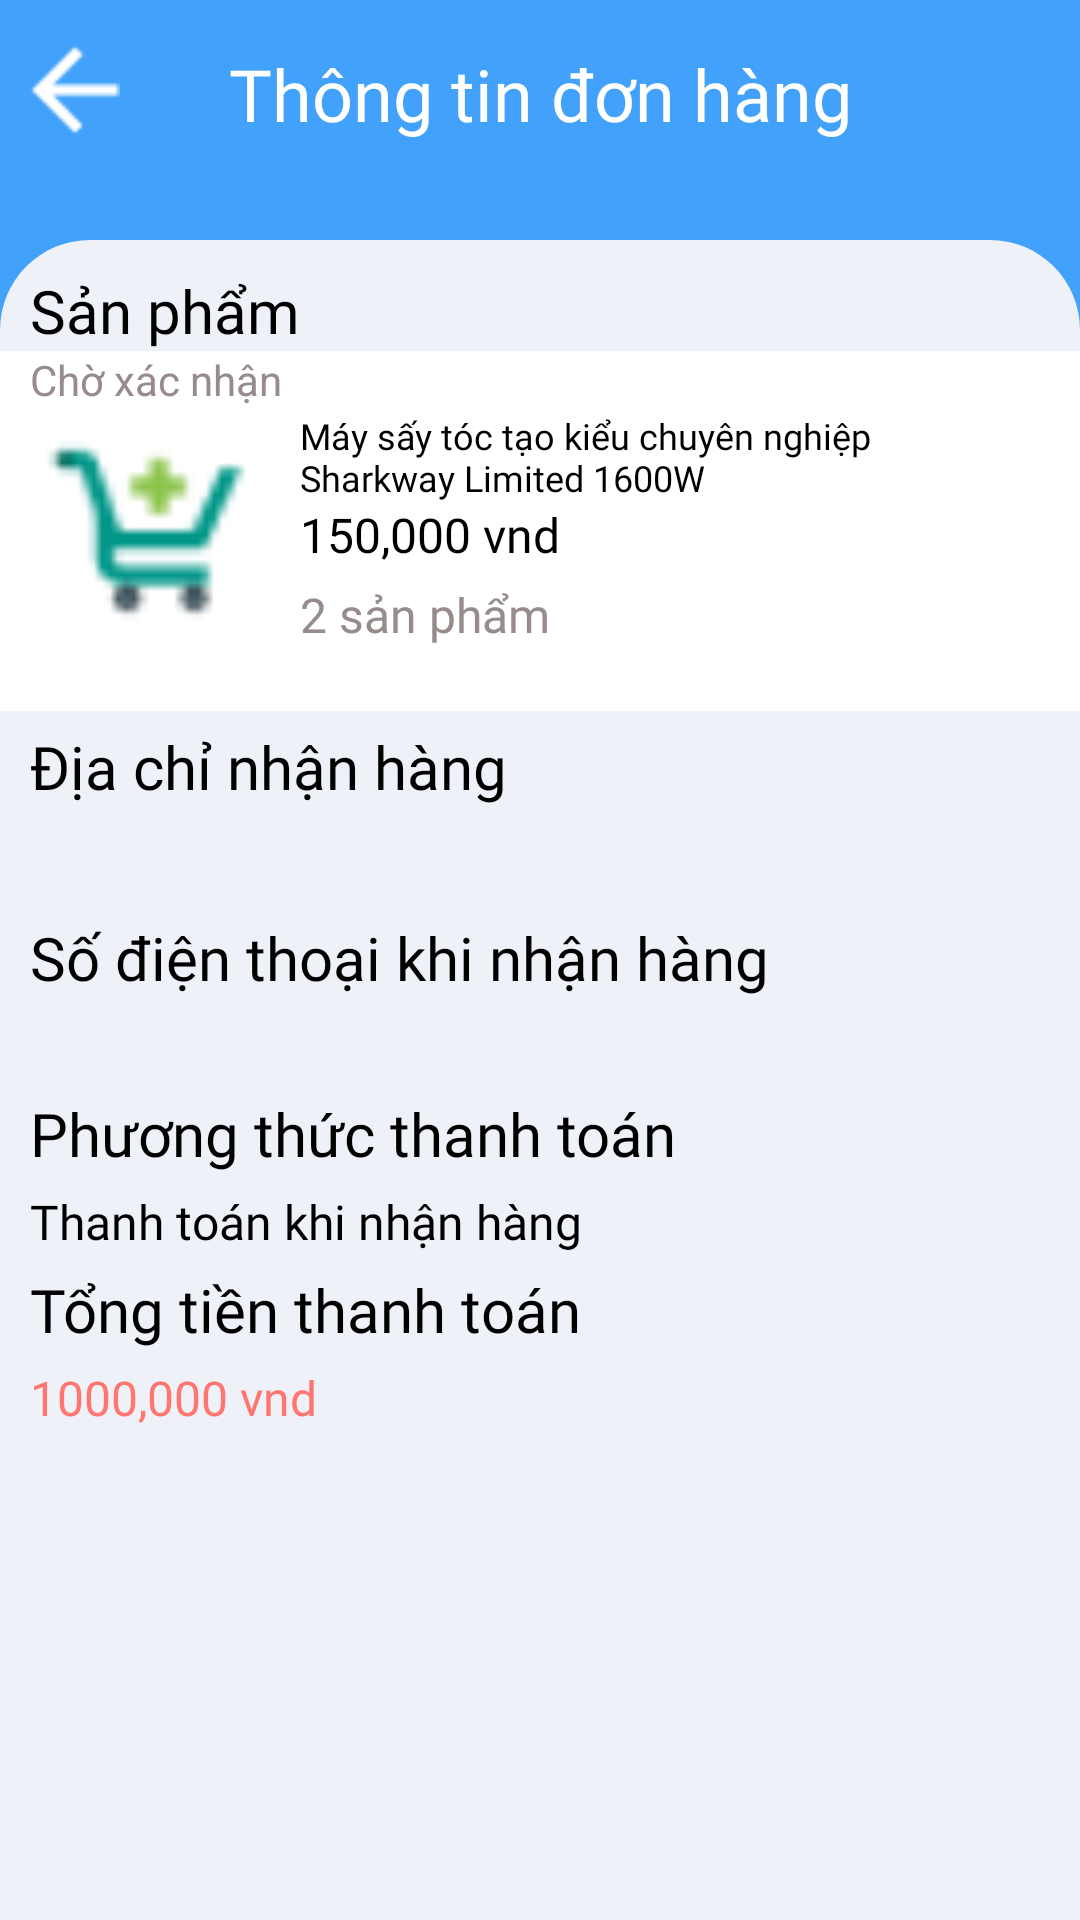

Named icons in this screenshot (1080×1920) and their bounding boxes, bbox(x1, y1, x2, y2):
add cart: bbox(50, 447, 245, 614)
arrow back: bbox(32, 47, 120, 133)
